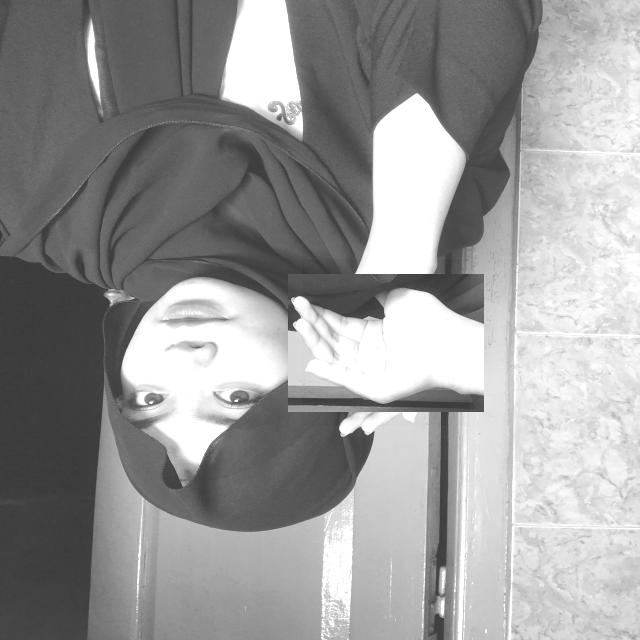mendengar: (302, 259, 470, 426)
